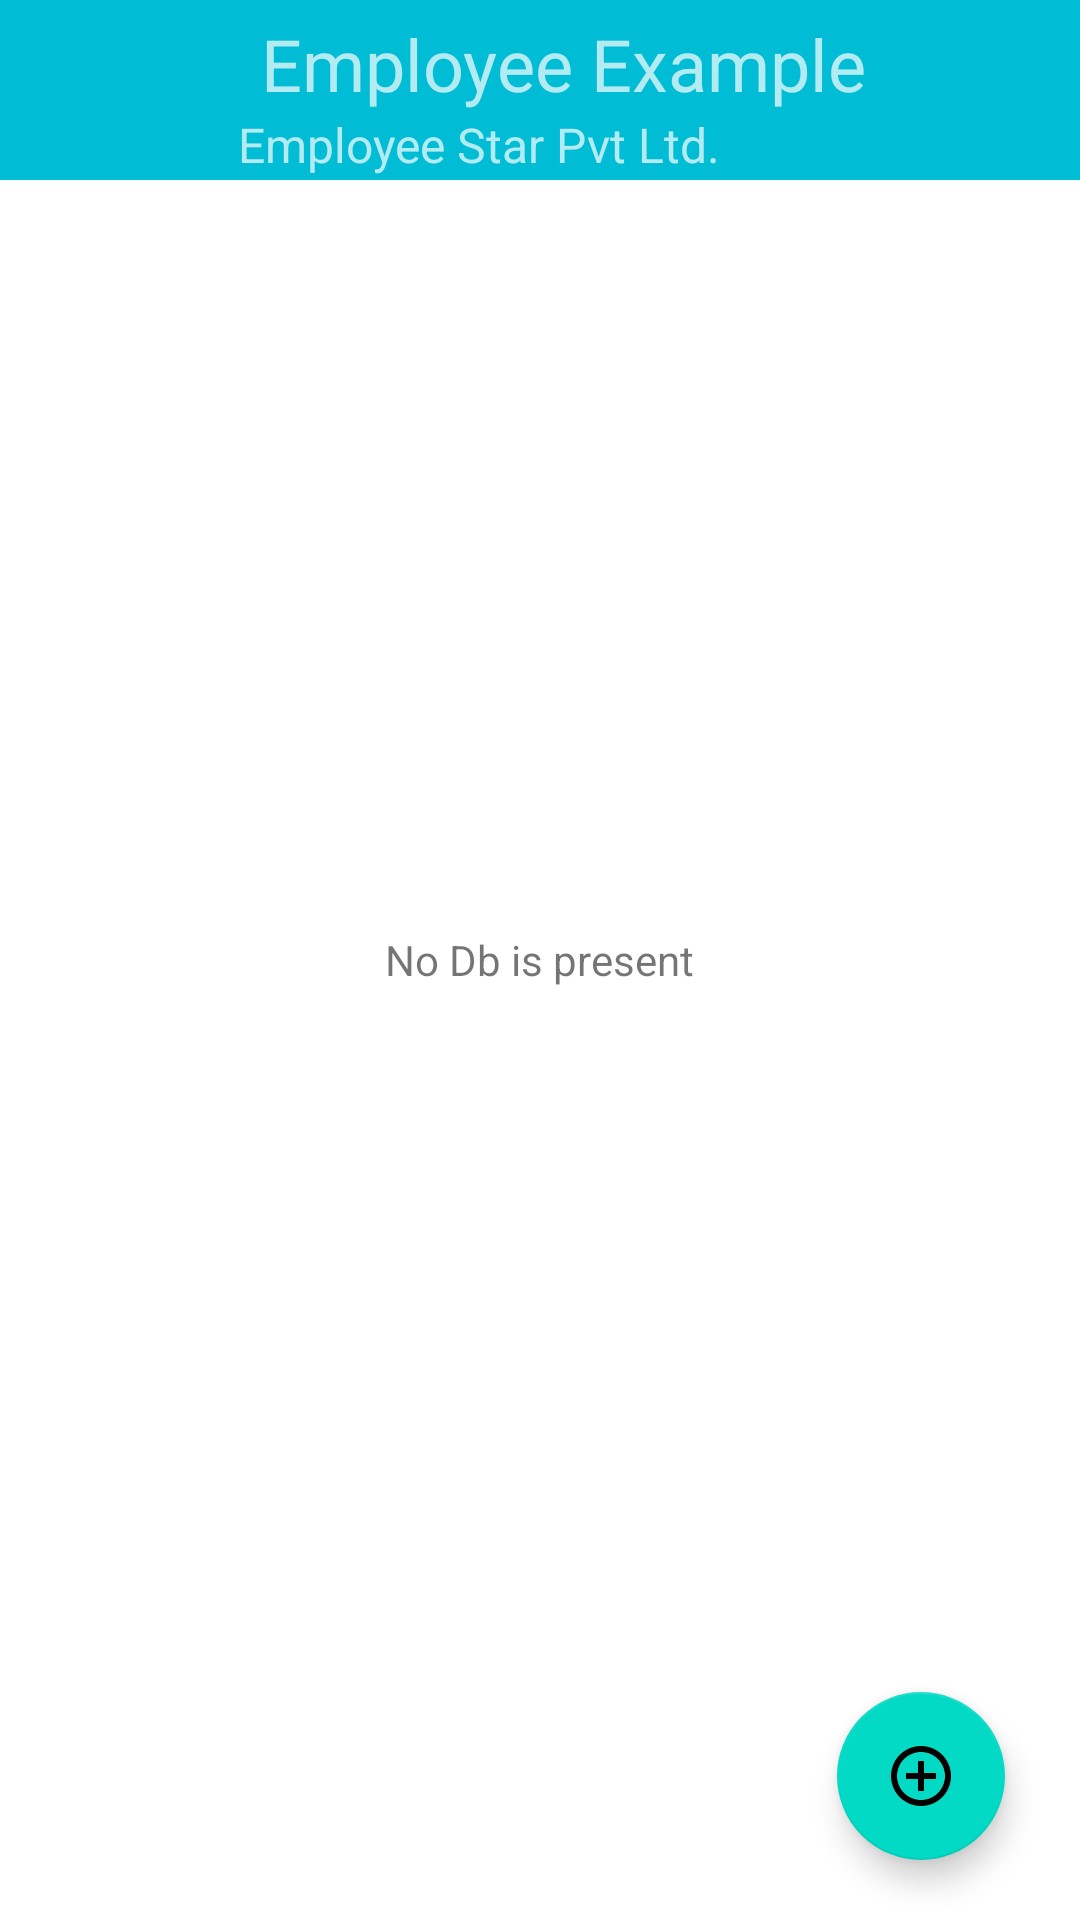

Icons on this 1080 × 1920 Android screen, each with its box as box(x1, y1, x2, y2):
add circle: box(837, 1692, 1005, 1860)
